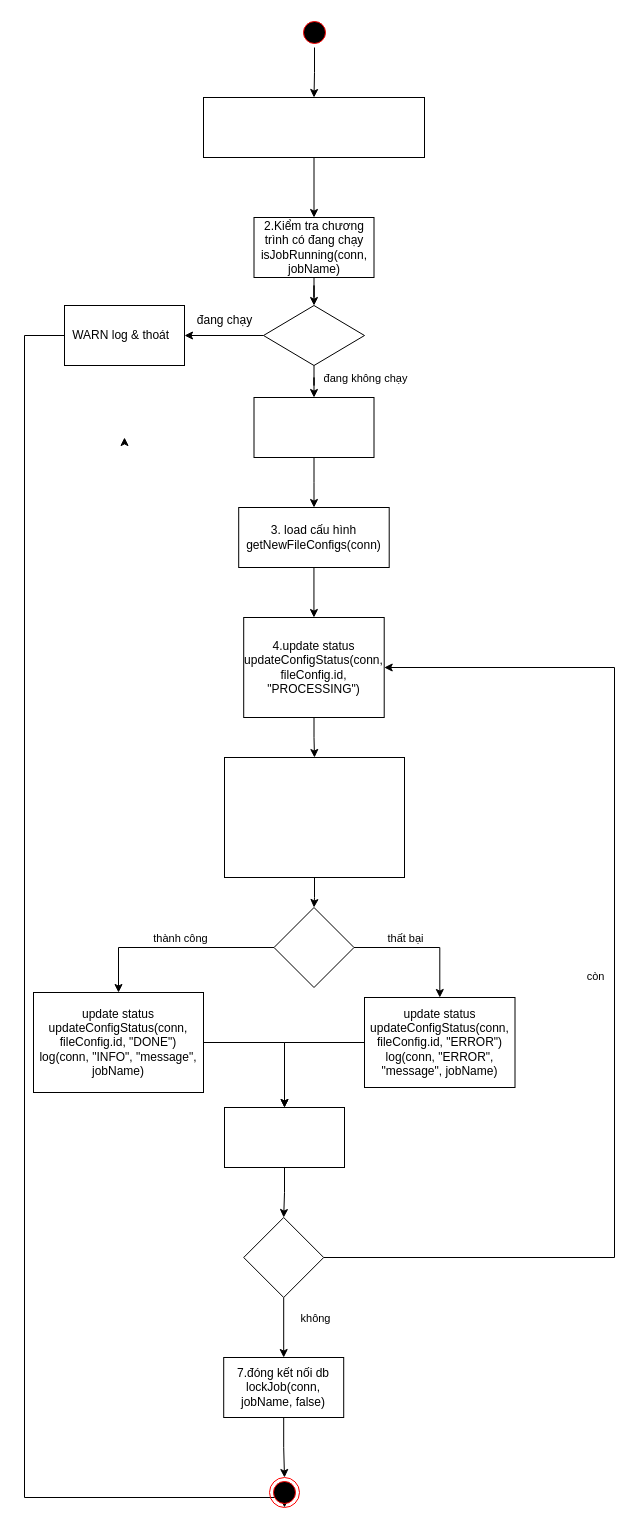
This 640x1533 diagram has some shape labels left out. Each missing label, with the centre of its shape:
1.kết nối database DriverManager.getConnection(DB_URL, USER, PASS): point 313,127
5.load file csv loadCsvToStaging(connStaging, fileConfig): point 314,817
6.kiểm tra còn file tiếp theo không: point 284,1137
lockJob(conn, jobName, true): point 313,427
